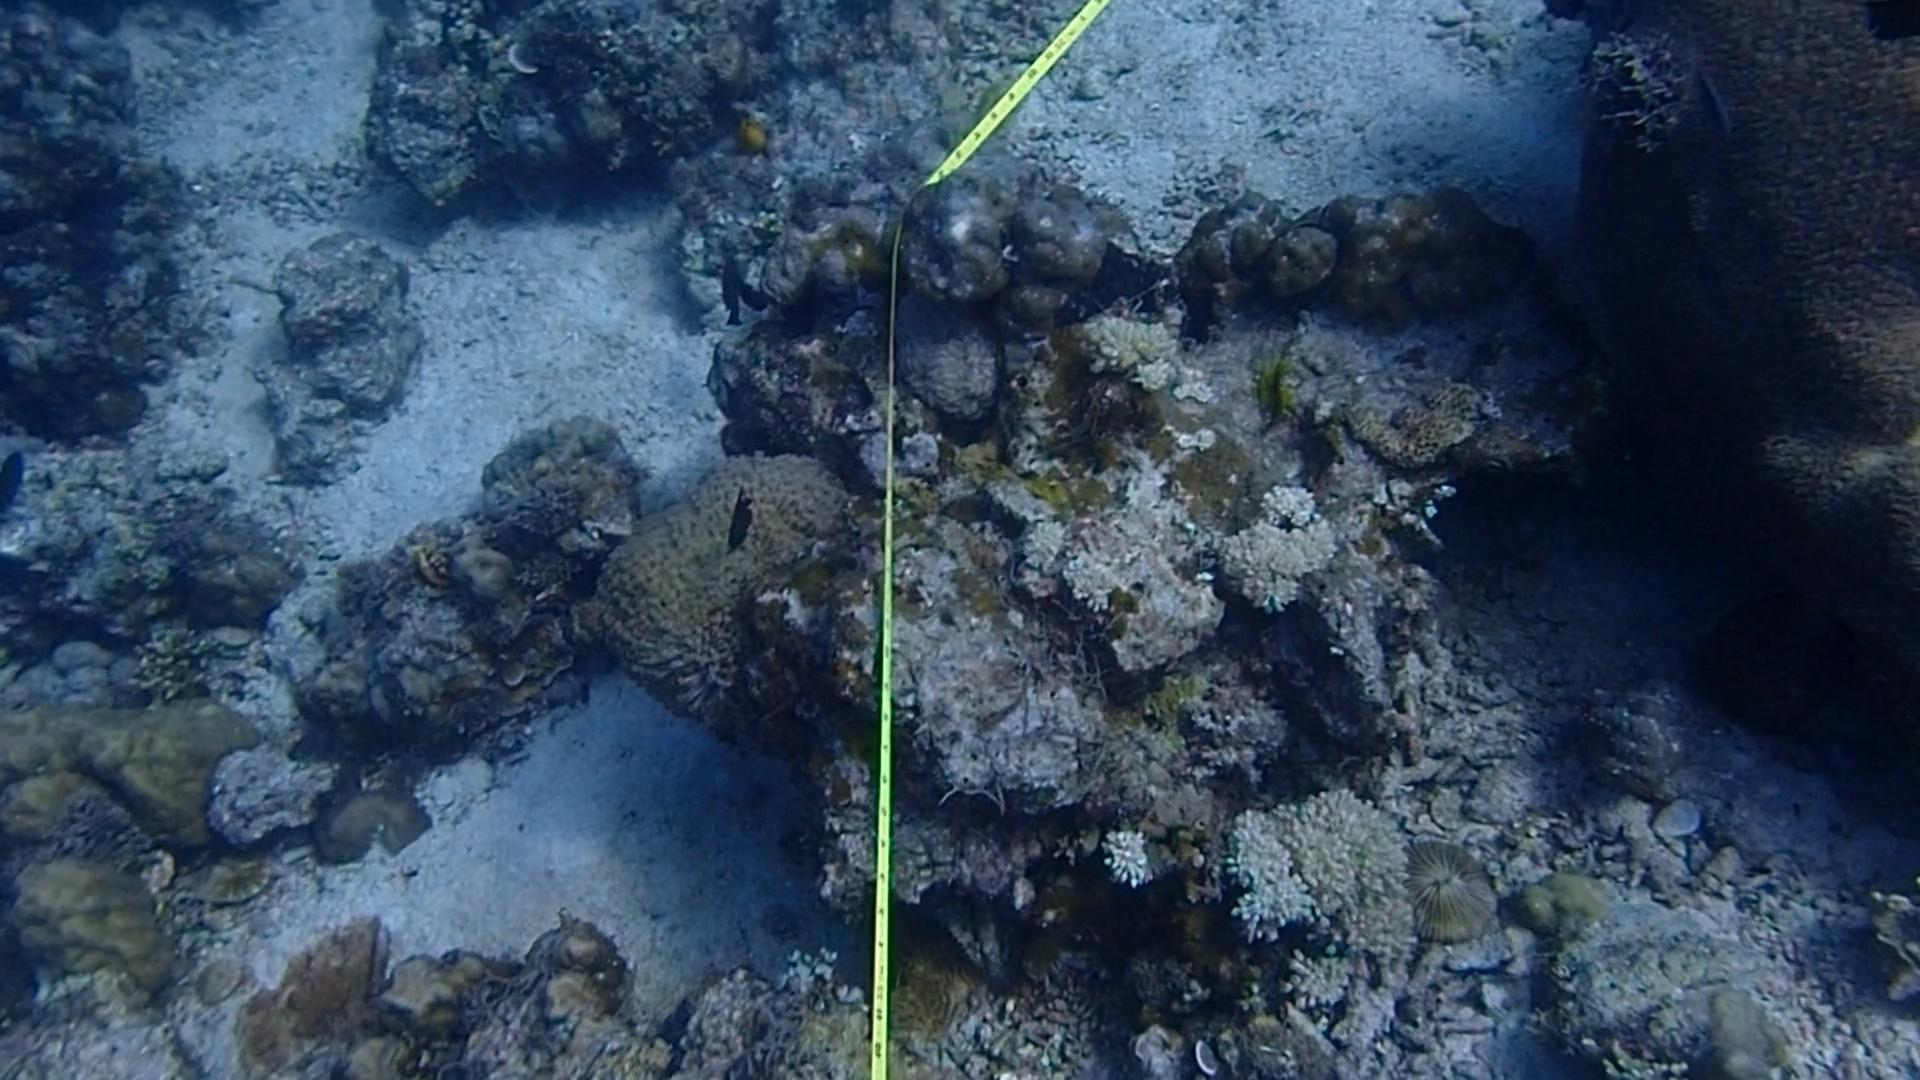Dark Fish: (551, 535, 628, 617), (715, 256, 775, 322), (715, 480, 770, 549), (713, 244, 754, 327)
